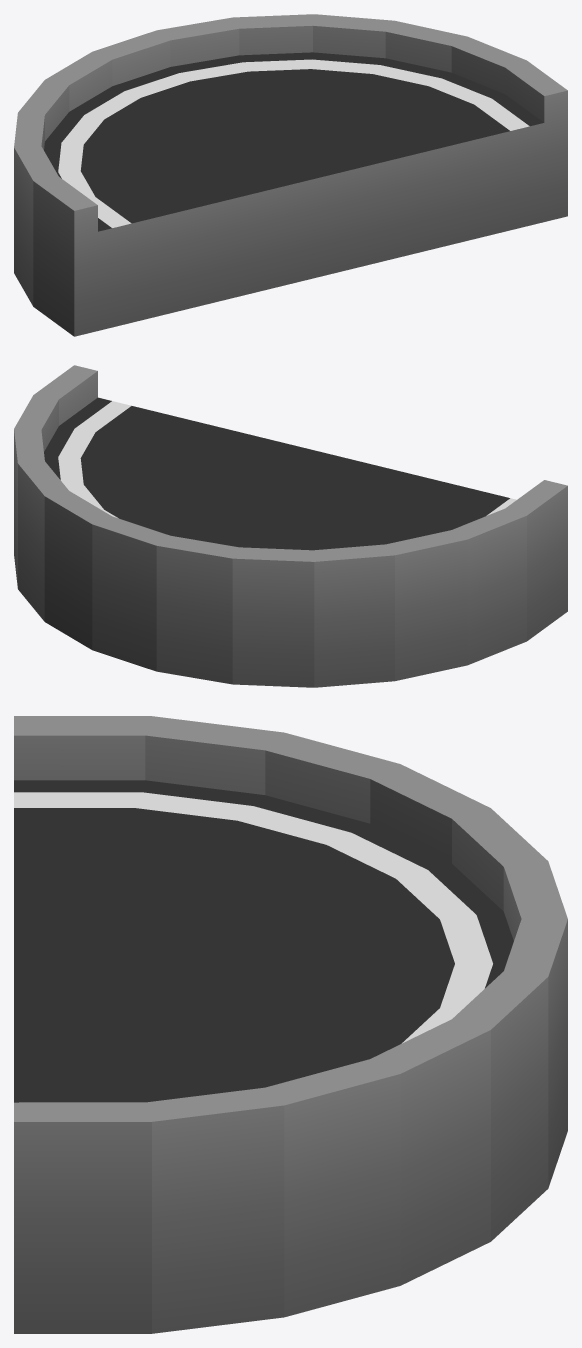
The model's file is Round_Corner_Road.fbx.
3 views of the same model, one above another, from view 1: azimuth 30°, elevation 25°; view 2: azimuth 150°, elevation 25°; view 3: azimuth 270°, elevation 25° (orthographic). The views are drawn at different scales.
Visible parts, largest first — view 1: Round_Corner_Road; view 2: Round_Corner_Road; view 3: Round_Corner_Road.
Boxes of the visible parts, bbox=[...] form: Round_Corner_Road: bbox=[14, 14, 567, 336]; Round_Corner_Road: bbox=[14, 365, 567, 687]; Round_Corner_Road: bbox=[14, 716, 567, 1333].
Size of the model in its own units: 199 by 48.52 by 115.
